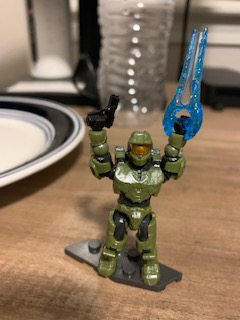chief: (84, 110, 191, 288)
pistol: (84, 93, 121, 131)
spartan: (82, 108, 189, 286)
up: (84, 108, 187, 204)
